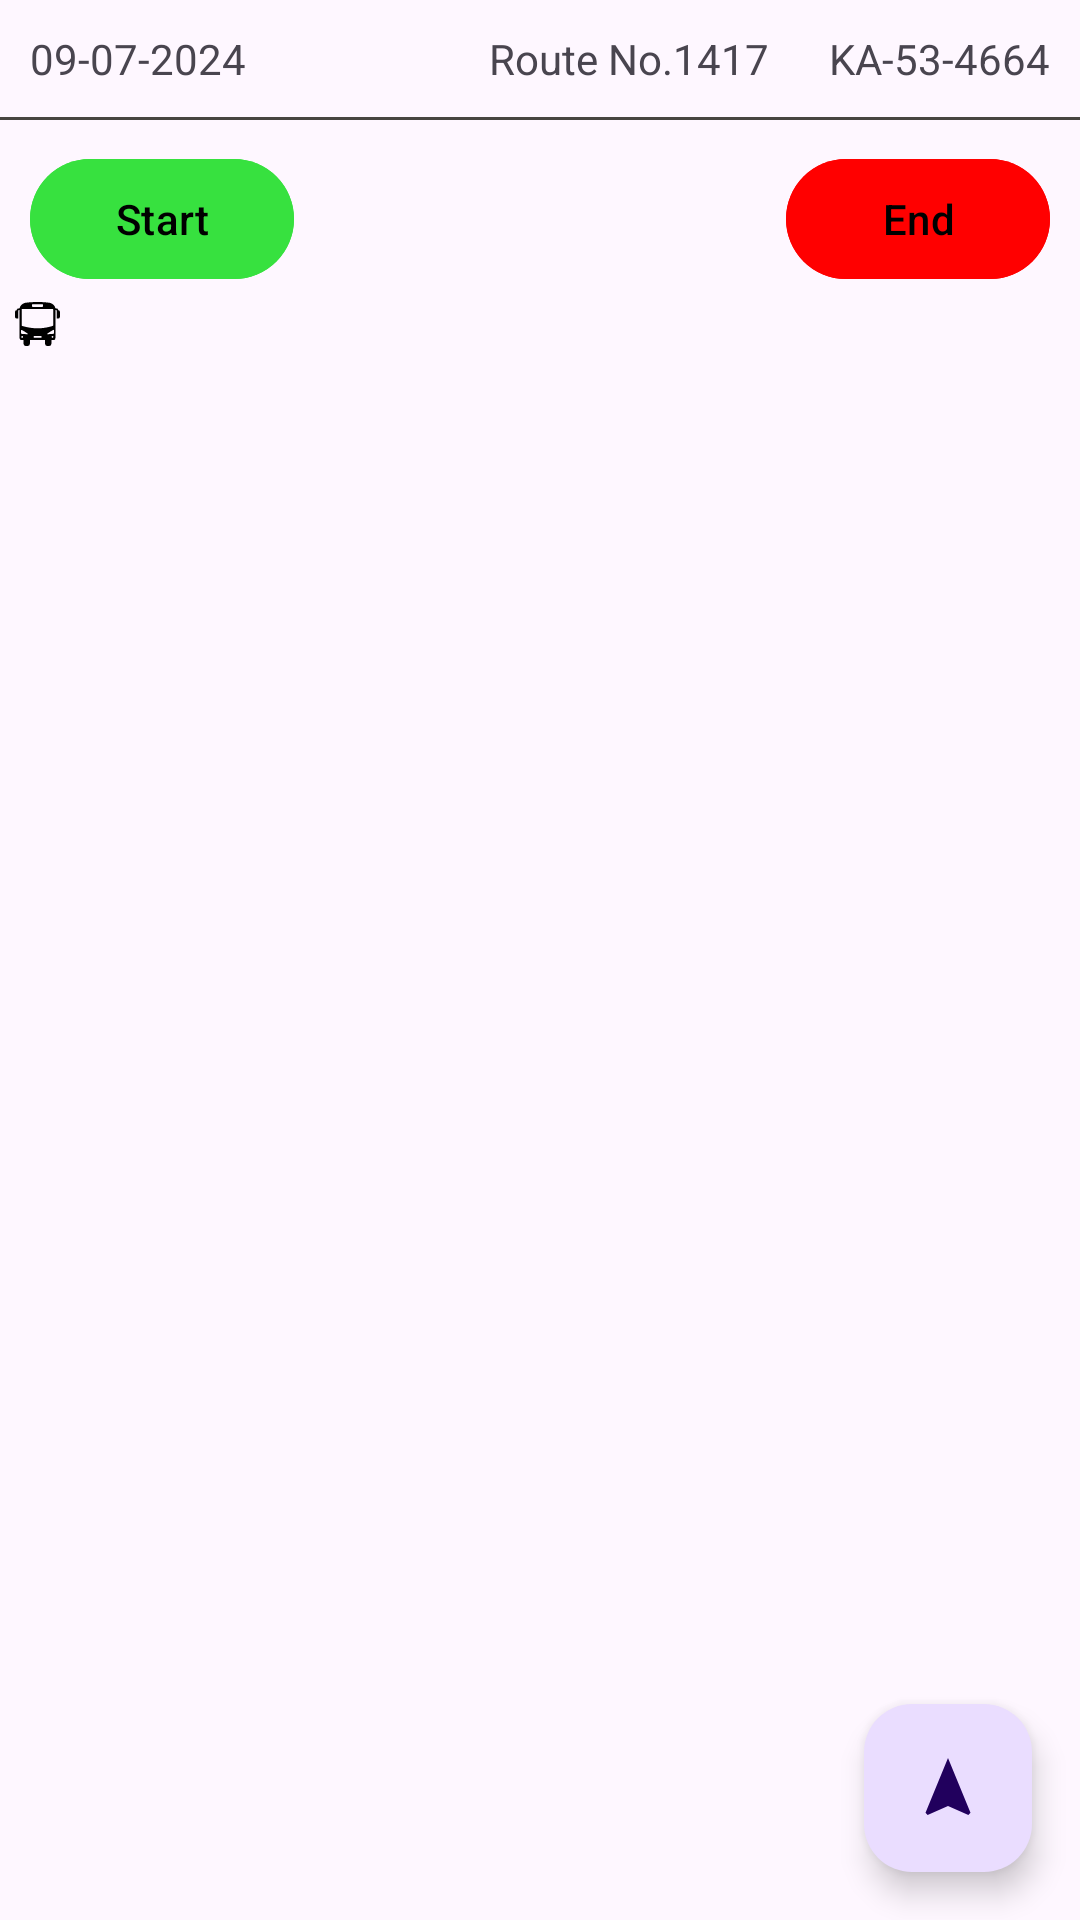

Icon click points for this 1080 x 1920 phone screenshot, format (x=x, y=y):
bus: (x=37, y=324)
navigation: (x=948, y=1788)
